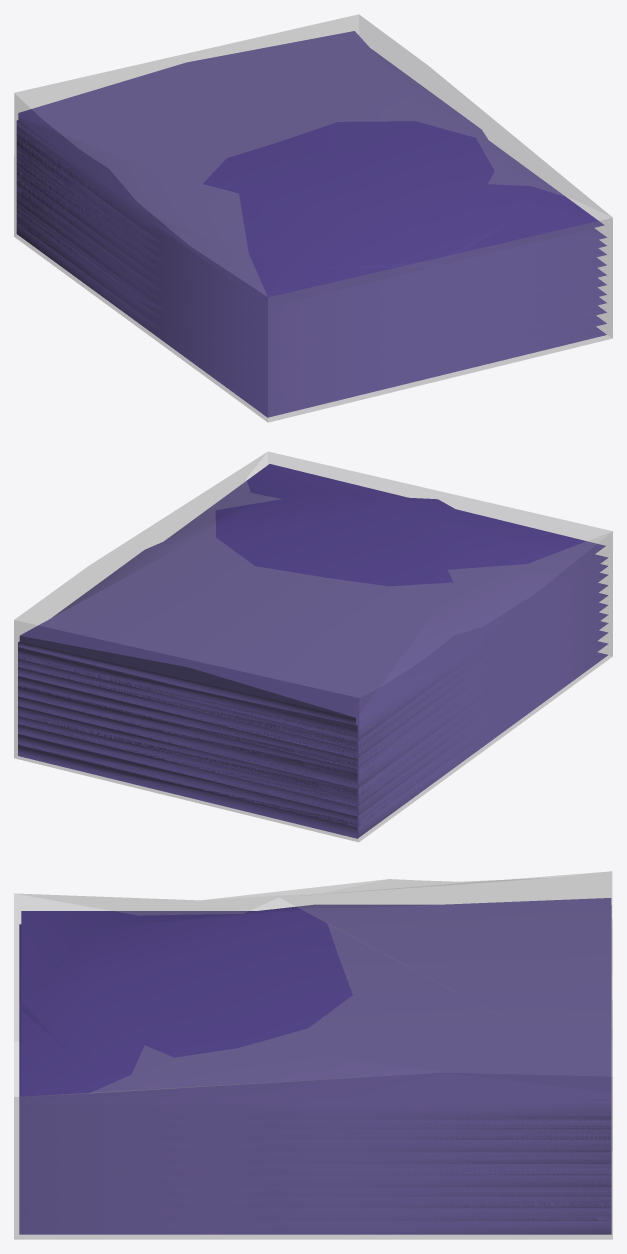
Rendered from Apron_Stack_Model.fbx.
3 renders of one model, top to bottom at view 1: azimuth 30°, elevation 25°; view 2: azimuth 150°, elevation 25°; view 3: azimuth 270°, elevation 25°, orthographic. The views are drawn at different scales.
Visible parts, largest first — view 1: wrapper, oneapron, stackapron; view 2: wrapper, oneapron, stackapron; view 3: wrapper, oneapron, stackapron.
Part boxes in pixels (left/top/right/bottom): wrapper: left=14, top=14, right=612, bottom=422; oneapron: left=18, top=31, right=604, bottom=307; stackapron: left=16, top=120, right=606, bottom=417; wrapper: left=14, top=452, right=612, bottom=842; oneapron: left=19, top=464, right=605, bottom=725; stackapron: left=18, top=554, right=608, bottom=838; wrapper: left=14, top=871, right=612, bottom=1239; oneapron: left=21, top=898, right=611, bottom=1104; stackapron: left=19, top=905, right=611, bottom=1234.
Size of the model in its own units: 2.33 by 0.9343 by 2.97.
